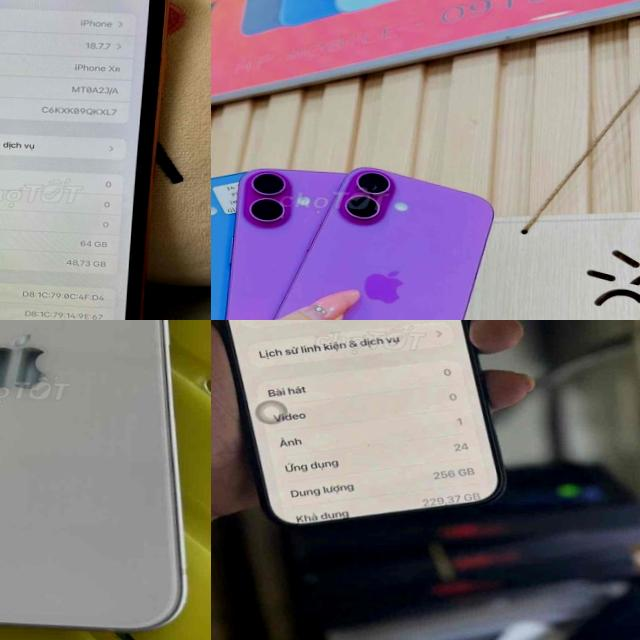gen_12_13: (0, 320, 211, 635)
gen_16: (219, 320, 502, 527), (254, 153, 488, 320)
gen_x_xs: (0, 0, 174, 320)
